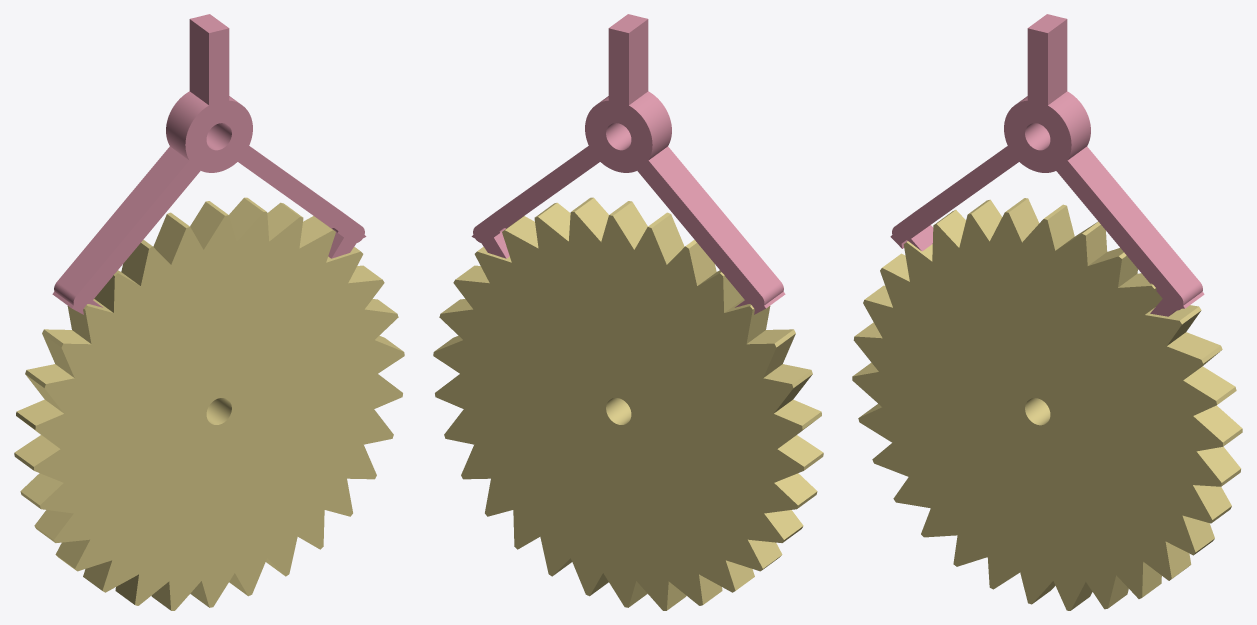
File: escapement_demo.glb
3 views of the same model, side by side, from view 1: azimuth 30°, elevation 25°; view 2: azimuth 150°, elevation 25°; view 3: azimuth 330°, elevation 25° (orthographic).
Visible parts, largest first — view 1: escape_wheel, anchor; view 2: escape_wheel, anchor; view 3: escape_wheel, anchor.
Part boxes in pixels (left/top/right/bottom): escape_wheel: left=14, top=197, right=404, bottom=610; anchor: left=52, top=14, right=366, bottom=314; escape_wheel: left=433, top=197, right=823, bottom=610; anchor: left=471, top=14, right=785, bottom=314; escape_wheel: left=852, top=198, right=1242, bottom=610; anchor: left=890, top=14, right=1204, bottom=316.
Size of the model in its own units: 43.94 by 65.1 by 4.
